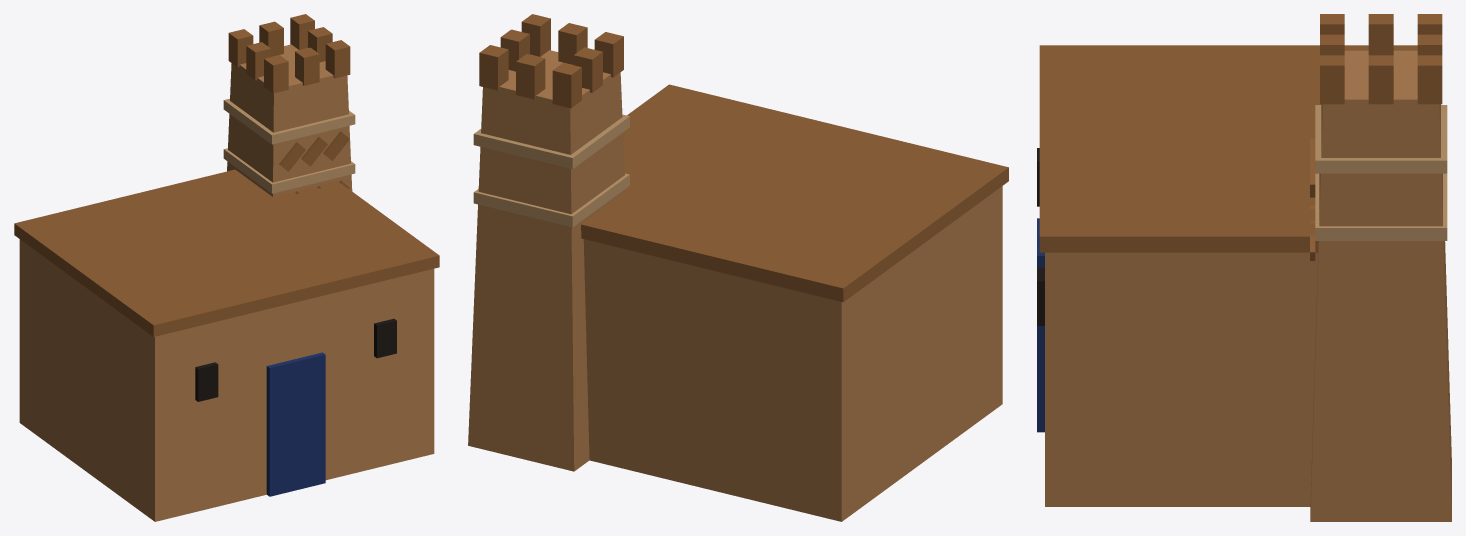
File: fennec_house_a.glb
The picture shows the model from 3 angles, left to right: view 1: azimuth 30°, elevation 25°; view 2: azimuth 150°, elevation 25°; view 3: azimuth 270°, elevation 25°; orthographic projection. The views are drawn at different scales.
Parts seen in each view (by area): view 1: fennec_house_a; view 2: fennec_house_a; view 3: fennec_house_a.
Part boxes in pixels (x1=…): fennec_house_a: x1=14, y1=14, x2=439, y2=521; fennec_house_a: x1=468, y1=14, x2=1008, y2=521; fennec_house_a: x1=1037, y1=14, x2=1451, y2=521.
Size of the model in its own units: 2.73 by 2.82 by 2.35.
